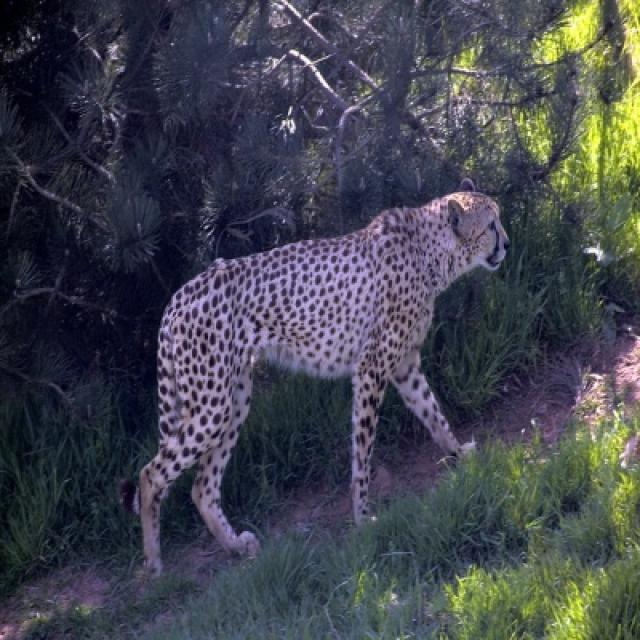Cheetah: (135, 180, 505, 575)
